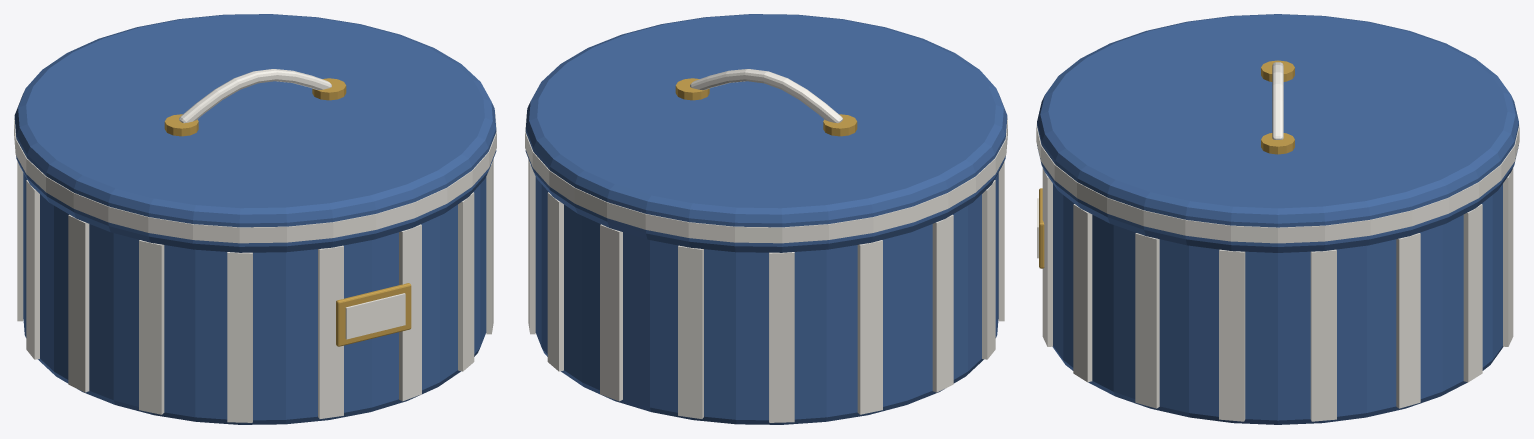
Rendered from hh_cat_hat_box.glb.
3 renders of one model, left to right at view 1: azimuth 30°, elevation 25°; view 2: azimuth 150°, elevation 25°; view 3: azimuth 270°, elevation 25°, orthographic.
Parts seen in each view (by area): view 1: lid, hatbox_body, lid_band, stripe.010, stripe.009, stripe.011, stripe.008, stripe.012, stripe.013, stripe.007, handle_cord, label_card (+5 smaller); view 2: lid, hatbox_body, lid_band, stripe.005, stripe.006, stripe.004, stripe.003, stripe.007, stripe.002, stripe.008, handle_cord, stripe.001 (+3 smaller); view 3: lid, hatbox_body, lid_band, stripe, stripe.015, stripe.001, stripe.014, stripe.002, stripe.013, stripe.003, stripe.012, handle_cord (+2 smaller).
Part boxes in pixels (bbox=[...]): lid: bbox=[14, 14, 496, 252]; hatbox_body: bbox=[23, 173, 486, 424]; lid_band: bbox=[14, 112, 496, 243]; stripe.010: bbox=[227, 252, 252, 422]; stripe.009: bbox=[139, 240, 164, 414]; stripe.011: bbox=[318, 245, 343, 418]; stripe.008: bbox=[68, 214, 89, 392]; stripe.012: bbox=[399, 224, 421, 401]; stripe.013: bbox=[458, 192, 474, 371]; stripe.007: bbox=[26, 180, 39, 359]; handle_cord: bbox=[179, 69, 331, 123]; label_card: bbox=[345, 293, 405, 339]; lid: bbox=[525, 14, 1007, 252]; hatbox_body: bbox=[535, 173, 998, 424]; lid_band: bbox=[525, 112, 1007, 243]; stripe.005: bbox=[769, 252, 794, 422]; stripe.006: bbox=[857, 240, 882, 414]; stripe.004: bbox=[678, 245, 703, 418]; stripe.003: bbox=[600, 224, 622, 401]; stripe.007: bbox=[932, 214, 953, 392]; stripe.002: bbox=[547, 192, 563, 371]; stripe.008: bbox=[982, 180, 995, 359]; handle_cord: bbox=[690, 69, 842, 123]; stripe.001: bbox=[528, 159, 535, 334]; lid: bbox=[1037, 14, 1518, 252]; hatbox_body: bbox=[1052, 184, 1503, 424]; lid_band: bbox=[1036, 123, 1519, 243]; stripe: bbox=[1310, 249, 1336, 421]; stripe.015: bbox=[1219, 249, 1245, 421]; stripe.001: bbox=[1396, 233, 1420, 408]; stripe.014: bbox=[1135, 233, 1159, 408]; stripe.002: bbox=[1463, 204, 1482, 382]; stripe.013: bbox=[1073, 204, 1092, 382]; stripe.003: bbox=[1503, 168, 1513, 346]; stripe.012: bbox=[1042, 168, 1052, 346]; handle_cord: bbox=[1272, 62, 1283, 139].
Bounding box in the file's own units: 0.34 × 0.2 × 0.34.
